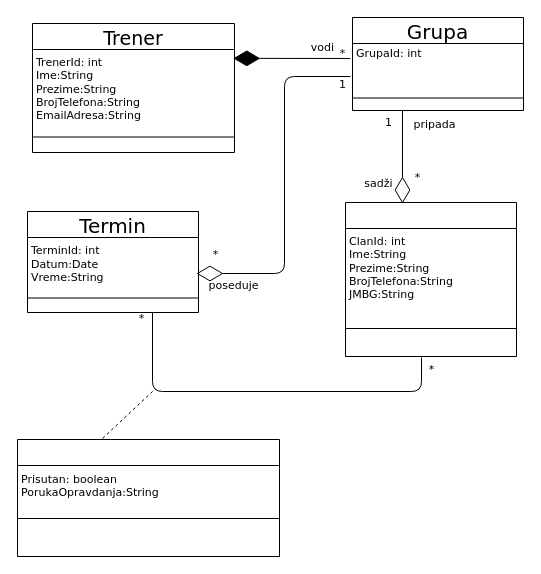
This 541x574 diagram has some shape labels left out. Here are the shapes that lost their labels. From the top down, the box of each, then its label:
(344, 202, 516, 356): Član
(16, 438, 280, 556): Prisustvo
